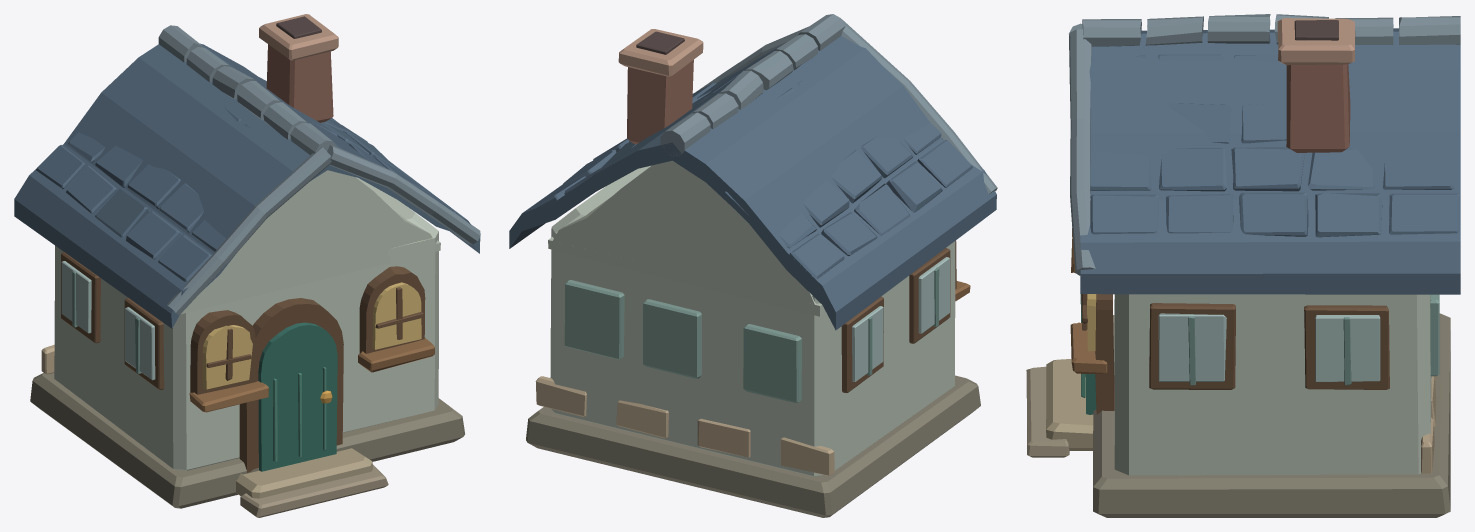
The model's file is cottage_blue.glb.
3 renders of one model, left to right at view 1: azimuth 30°, elevation 25°; view 2: azimuth 150°, elevation 25°; view 3: azimuth 270°, elevation 25°, orthographic. The views are drawn at different scales.
Visible parts, largest first — view 1: cottage_blue; view 2: cottage_blue; view 3: cottage_blue.
Part boxes in pixels (left/top/right/bottom): cottage_blue: left=14, top=14, right=480, bottom=517; cottage_blue: left=509, top=14, right=997, bottom=517; cottage_blue: left=1026, top=14, right=1460, bottom=517.
Bounding box in the file's own units: 2.26 × 2.54 × 2.23.
